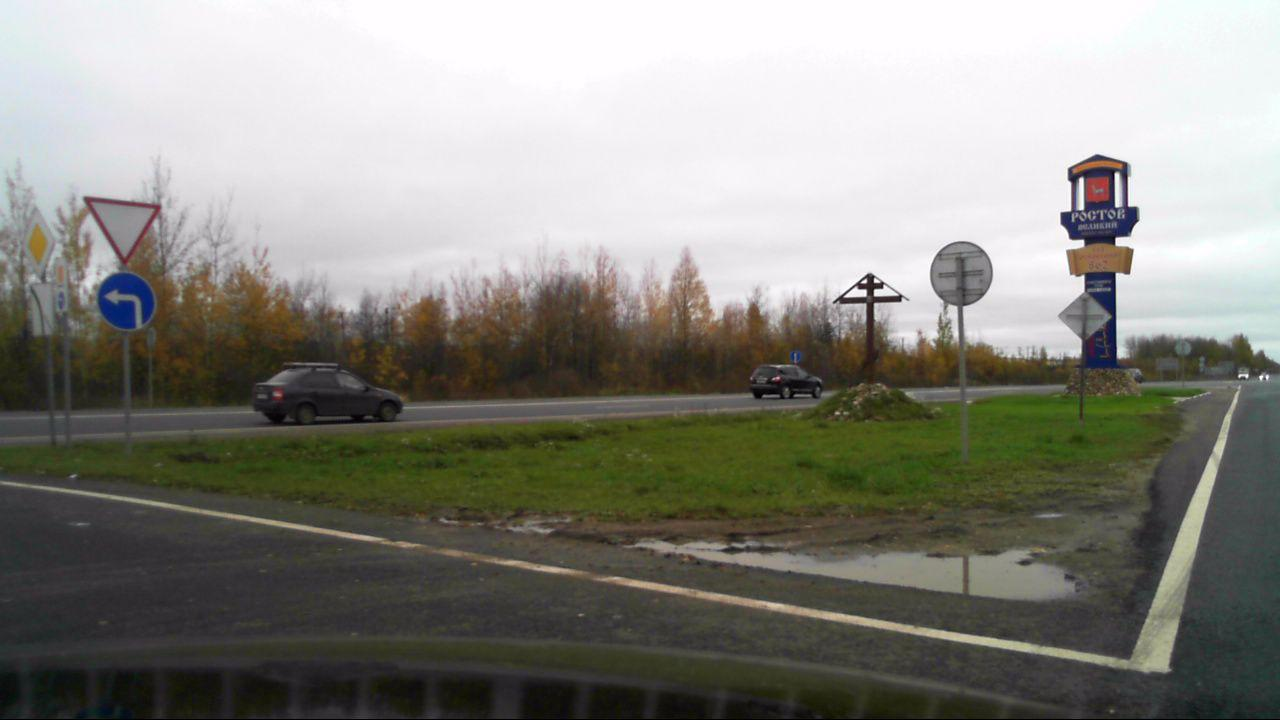2_1: (20, 209, 56, 280)
2_4: (80, 194, 166, 266)
4_1_1: (789, 350, 801, 362)
4_1_3: (98, 271, 157, 331)
4_8_1: (53, 258, 70, 313)
8_13: (28, 283, 55, 336)
